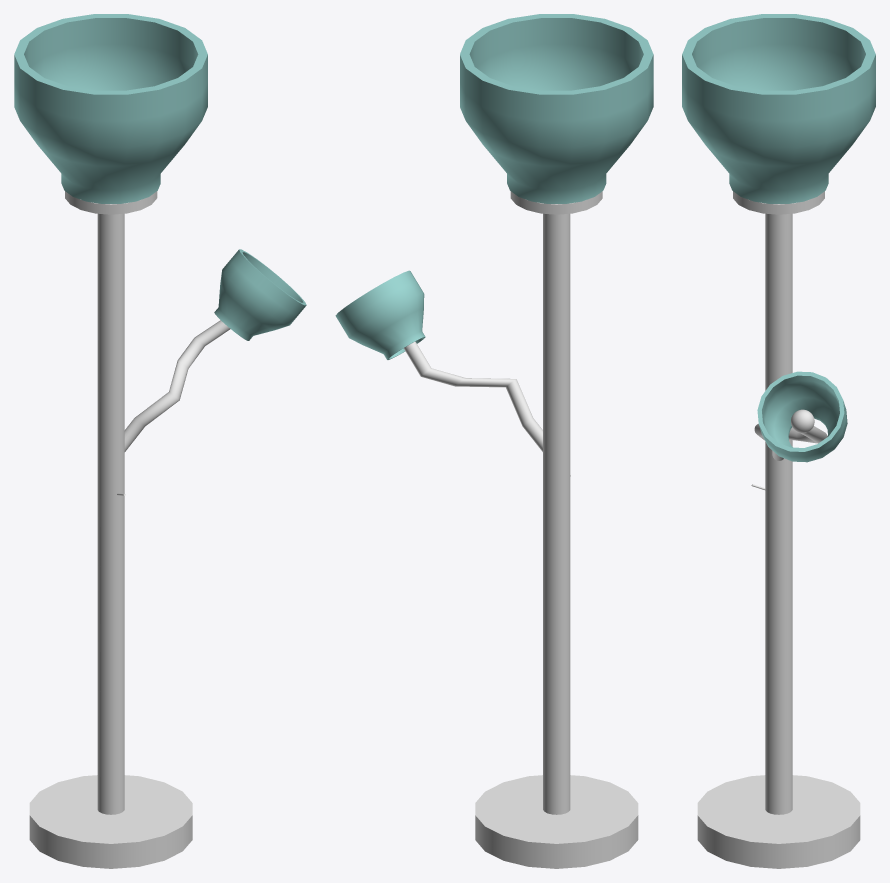
File: lampe.FBX
3 renders of one model, left to right at view 1: azimuth 30°, elevation 25°; view 2: azimuth 150°, elevation 25°; view 3: azimuth 270°, elevation 25°, orthographic.
Visible parts, largest first — view 1: Tube002, Cylindre002, Cylindre003, Tube003, Cylindre005, Cylindre004; view 2: Tube002, Cylindre002, Cylindre003, Tube003, Cylindre005, Cylindre004; view 3: Tube002, Cylindre002, Cylindre003, Tube003, Cylindre004, Cylindre005, Sphère002.
Part boxes in pixels (x1,y1,x2,y2): Tube002: (14, 14, 207, 203); Cylindre002: (97, 213, 124, 814); Cylindre003: (29, 775, 192, 868); Tube003: (214, 249, 306, 340); Cylindre005: (124, 320, 230, 451); Cylindre004: (65, 191, 157, 214); Tube002: (460, 14, 653, 203); Cylindre002: (543, 213, 570, 814); Cylindre003: (475, 775, 638, 868); Tube003: (335, 270, 425, 359); Cylindre005: (403, 341, 542, 451); Cylindre004: (510, 191, 602, 214); Tube002: (682, 14, 875, 203); Cylindre002: (765, 213, 792, 814); Cylindre003: (697, 775, 860, 868); Tube003: (757, 371, 847, 462); Cylindre004: (733, 191, 824, 214); Cylindre005: (754, 424, 827, 460); Sphère002: (791, 409, 814, 433).
Bounding box in the file's own units: 23.77 × 62.41 × 14.05.
